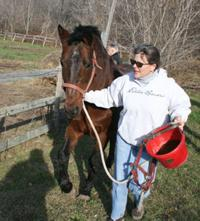person: (80, 44, 191, 220)
